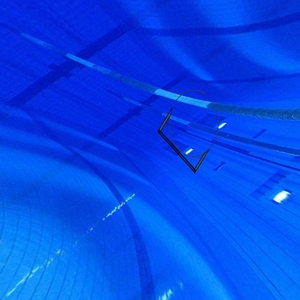circle: (156, 89, 222, 175)
